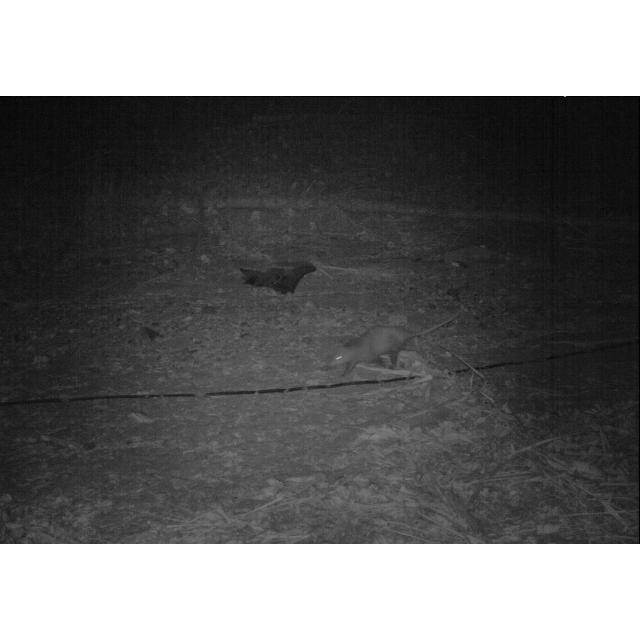animals: (331, 320, 459, 372)
